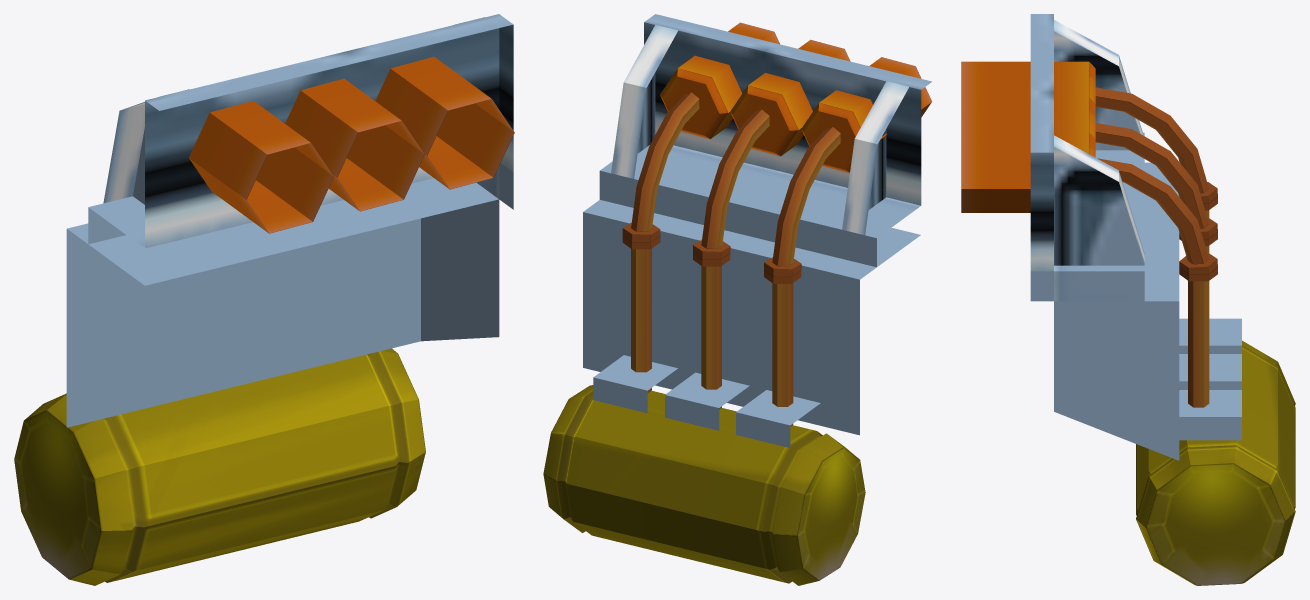
File: JC_ModPanels_EdgeTile_III.obj
3 renders of one model, left to right at view 1: azimuth 30°, elevation 25°; view 2: azimuth 150°, elevation 25°; view 3: azimuth 270°, elevation 25°, orthographic. The views are drawn at different scales.
Visible parts, largest first — view 1: polySurface188; view 2: polySurface188; view 3: polySurface188.
Part boxes in pixels (x1,y1,x2,y2): polySurface188: (14, 14, 514, 585); polySurface188: (543, 14, 931, 585); polySurface188: (961, 14, 1295, 585).
Bounding box in the file's own units: 200 × 302 × 204.
Materials: 2 (2 with a texture image).
